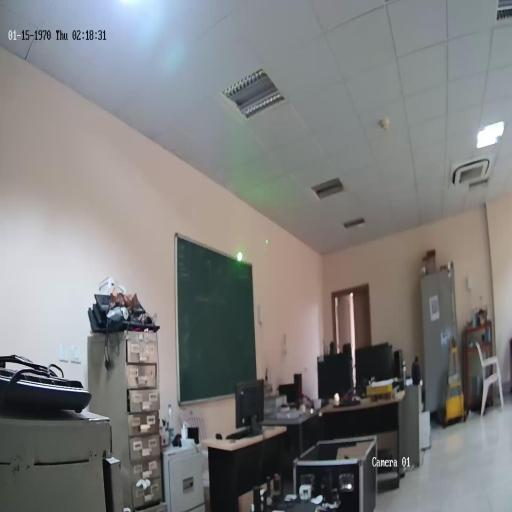laser: (236, 250, 244, 262)
